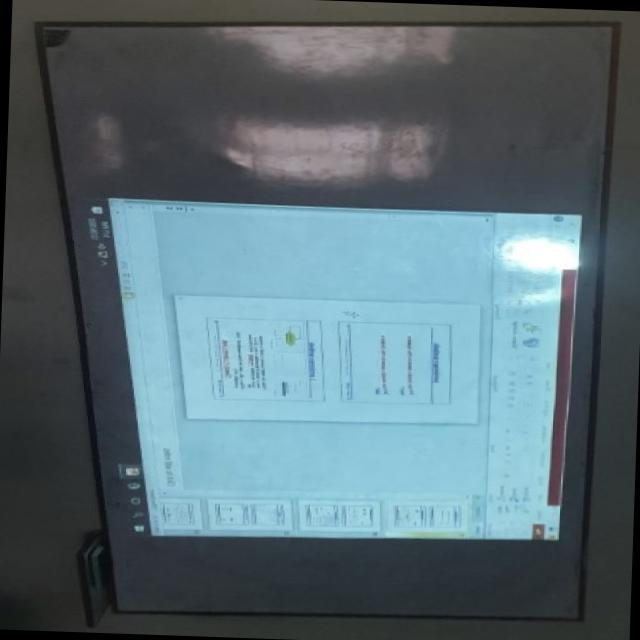Slide: (76, 196, 583, 542)
White-board: (36, 25, 612, 620)
